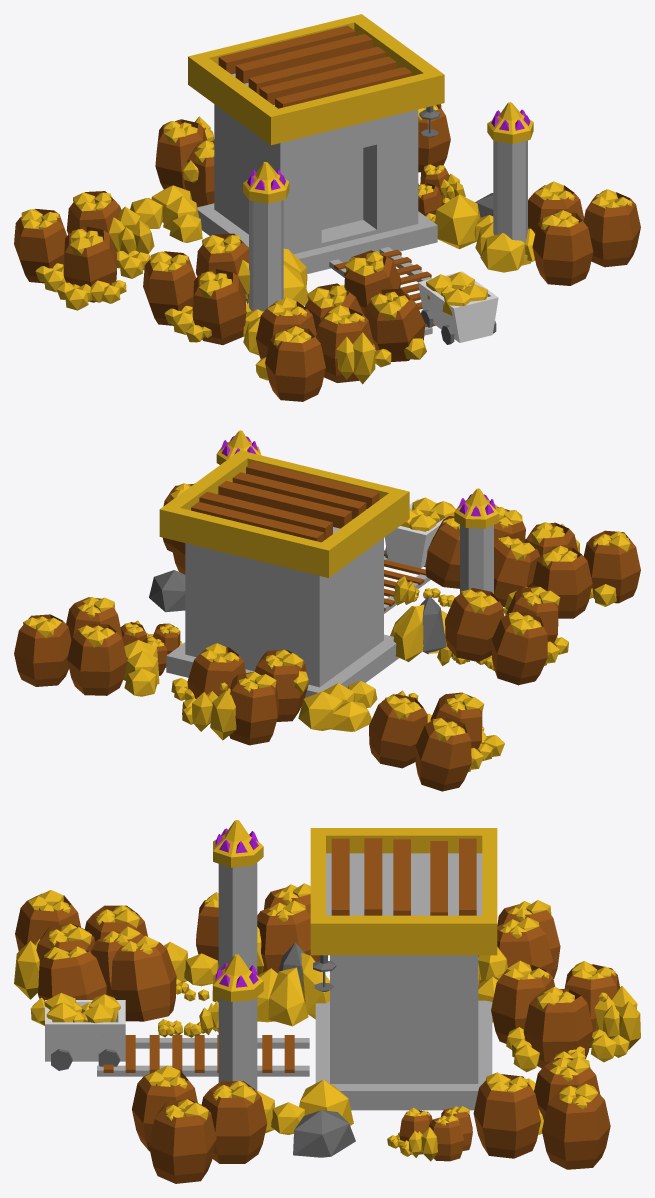
The model's file is Mina_Nv5.glb.
3 views of the same model, one above another, from view 1: azimuth 30°, elevation 25°; view 2: azimuth 150°, elevation 25°; view 3: azimuth 270°, elevation 25° (orthographic). The views are drawn at different scales.
Parts seen in each view (by area): view 1: Icosphere.003; view 2: Icosphere.003; view 3: Icosphere.003.
Part boxes in pixels (x1=…): Icosphere.003: x1=14, y1=14, x2=640, y2=401; Icosphere.003: x1=14, y1=430, x2=640, y2=791; Icosphere.003: x1=14, y1=820, x2=640, y2=1183.
Bounding box in the file's own units: 3.89 × 1.6 × 4.02.
